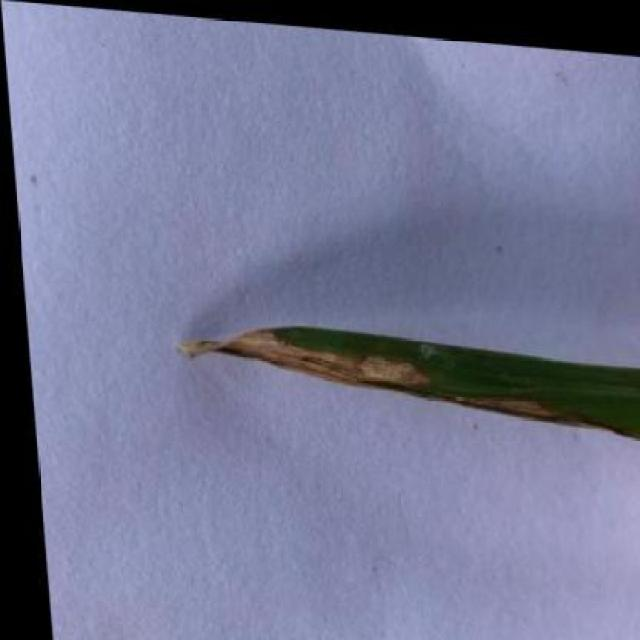Brown_Spot: (155, 304, 640, 434)
